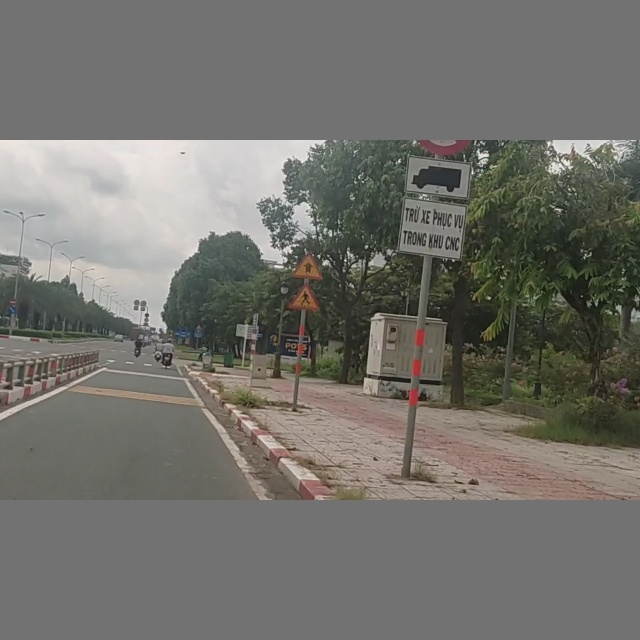S.505a*Xe tai: (398, 153, 469, 259)
W.207: (291, 251, 324, 281)
W.224: (288, 283, 321, 311)
